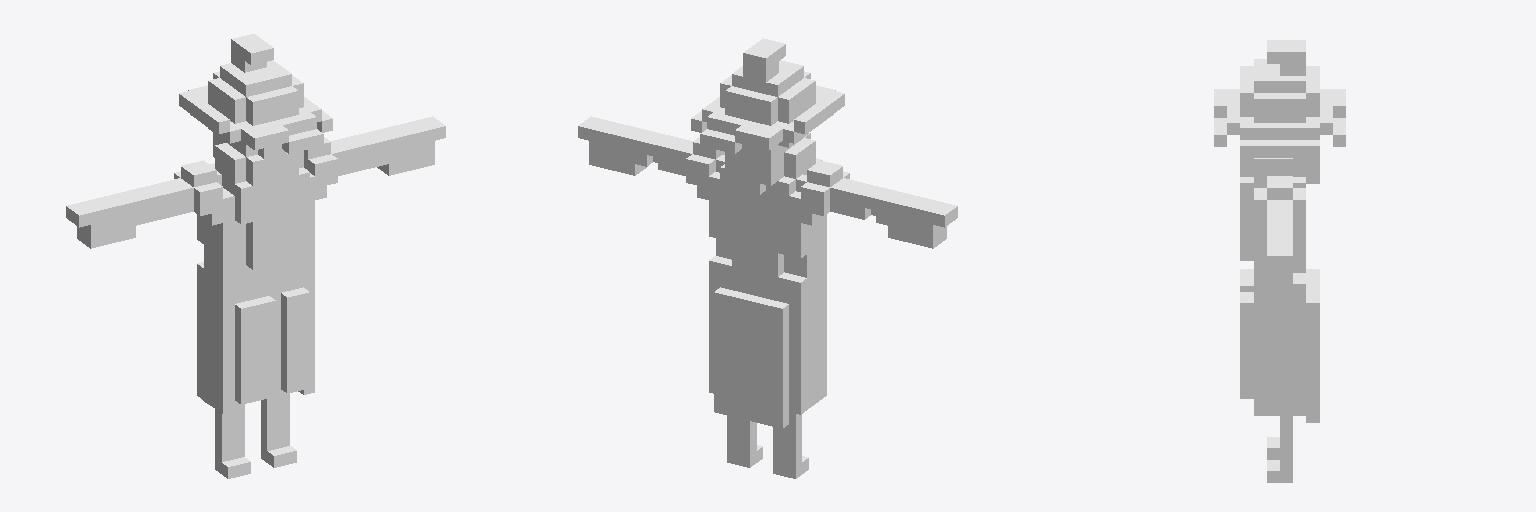
File: Character8.obj
3 views of the same model, side by side, from view 1: azimuth 30°, elevation 25°; view 2: azimuth 150°, elevation 25°; view 3: azimuth 270°, elevation 25° (orthographic).
Visible parts, largest first — view 1: Character07_Mesh.007; view 2: Character07_Mesh.007; view 3: Character07_Mesh.007.
Boxes of the visible parts, <box> form: Character07_Mesh.007: <box>66,34,445,478</box>; Character07_Mesh.007: <box>578,38,957,478</box>; Character07_Mesh.007: <box>1214,40,1345,482</box>.
Bounding box in the file's own units: 12.15 × 13.29 × 3.8.